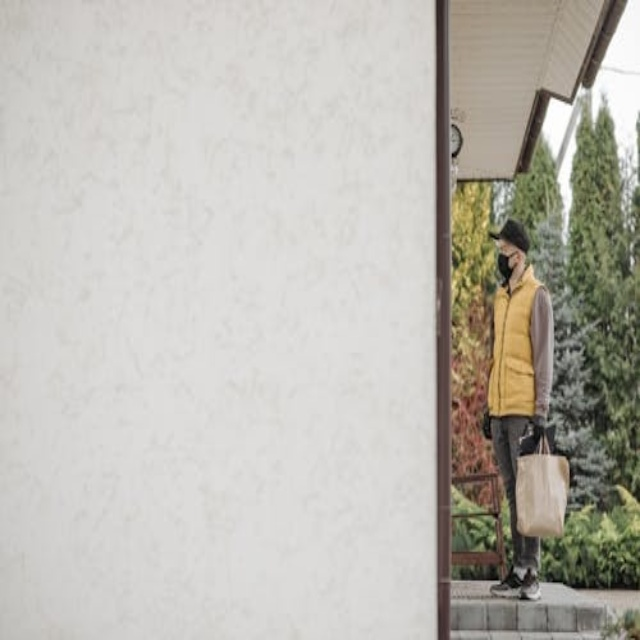Guantes: (480, 404, 497, 441)
Mascara: (497, 251, 518, 282)
Sin_gafas: (495, 238, 512, 253)
